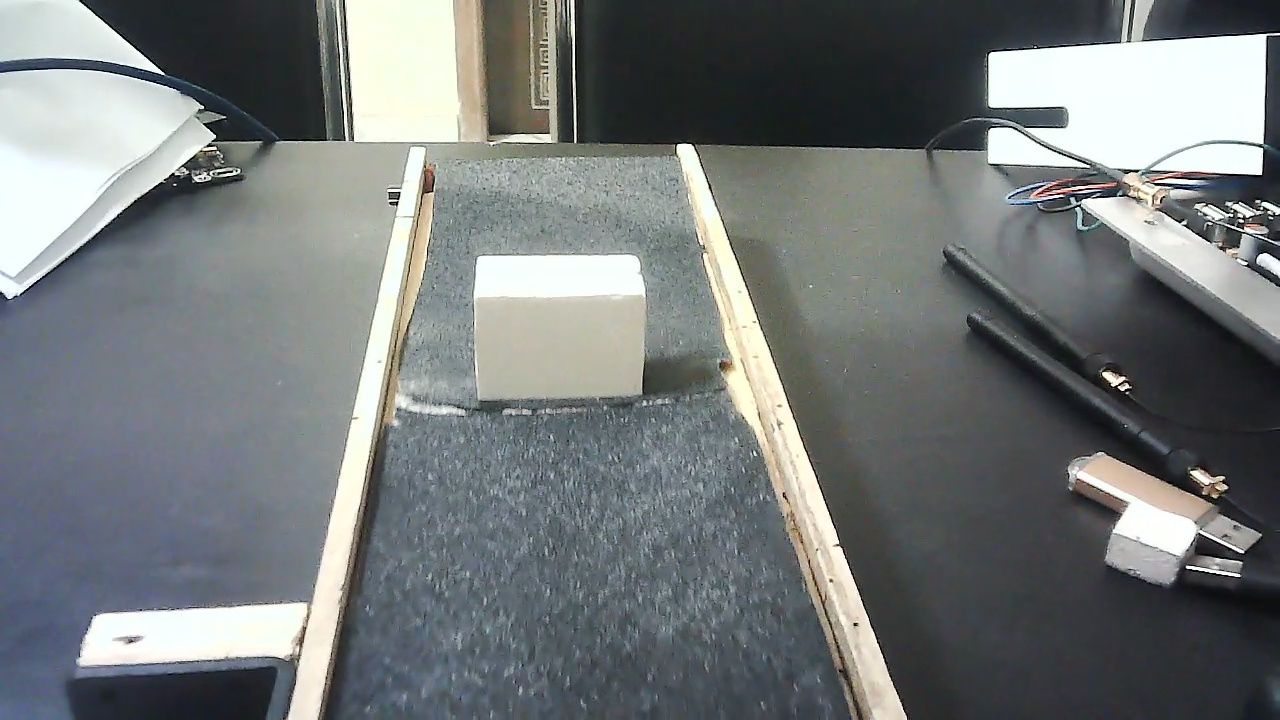BIG: (473, 240, 647, 414)
